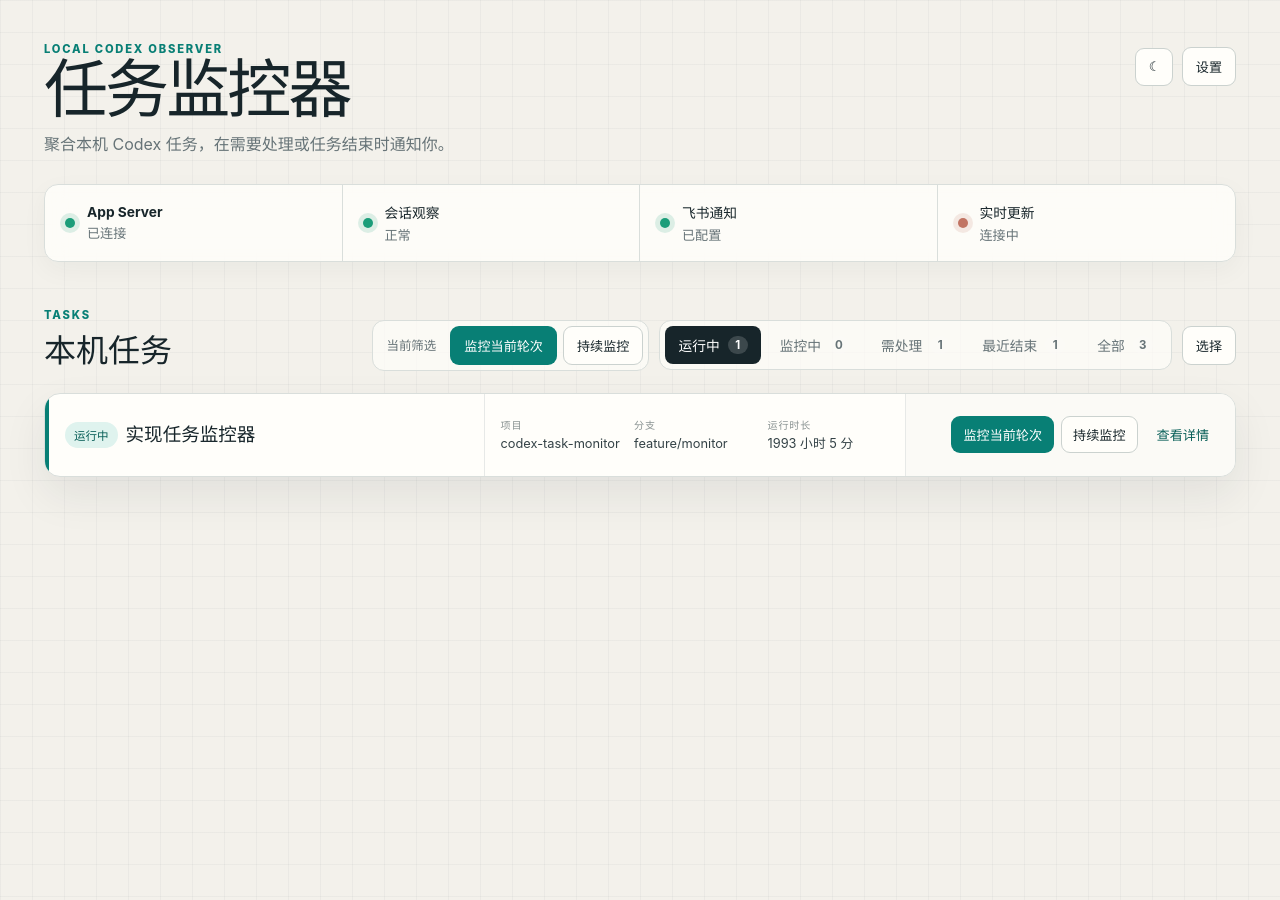
Scenario: 任务监控主页面 › 需处理筛选只显示等待任务
Click the button "需处理 1" at (916, 345), box x1=868 y1=326 x2=963 y2=364
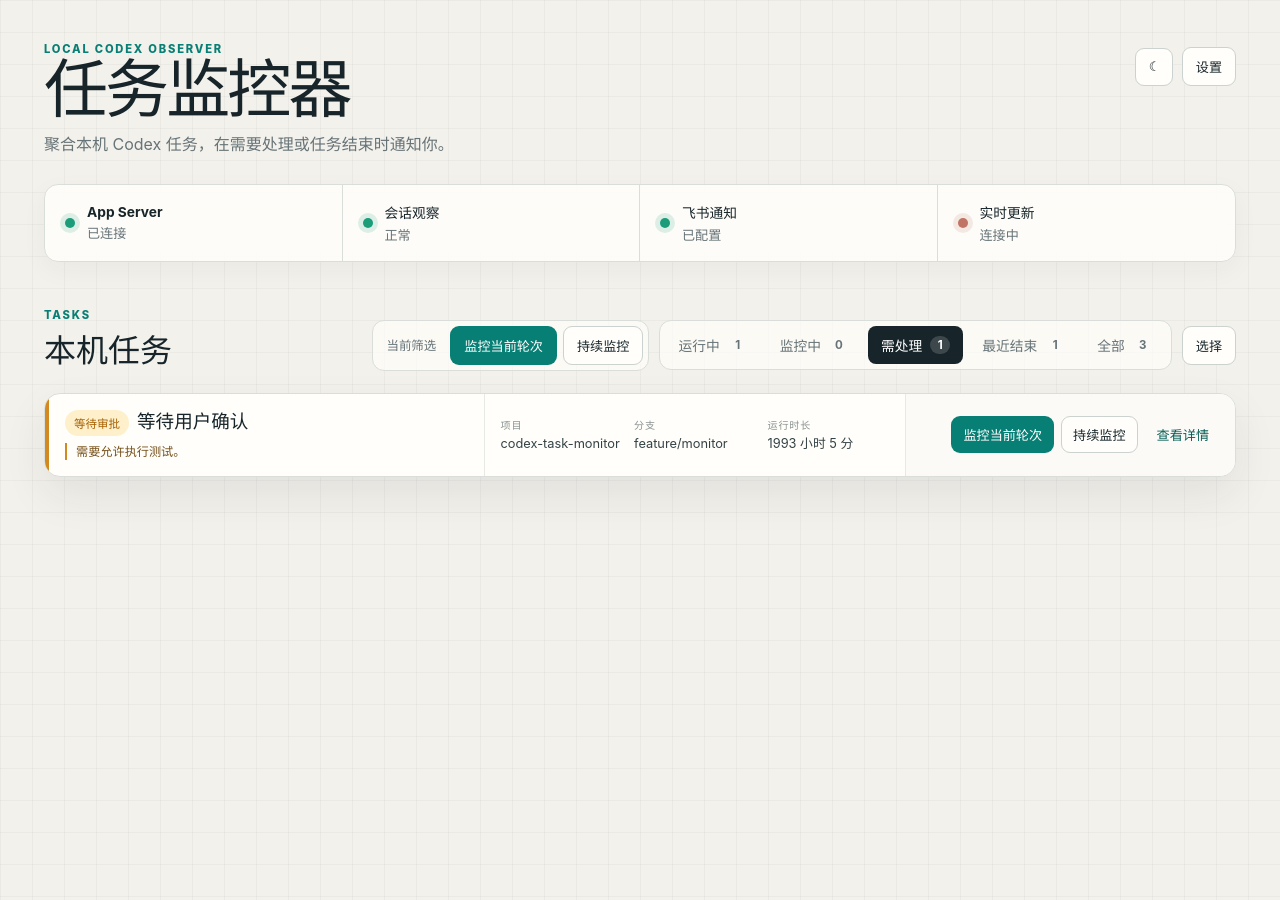
Result: the text "等待用户确认" is shown at x1=137 y1=411 x2=248 y2=432
Result: the text "实现任务监控器" is gone
